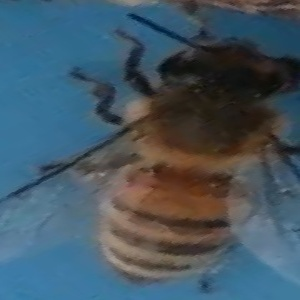bee: (50, 13, 300, 292)
